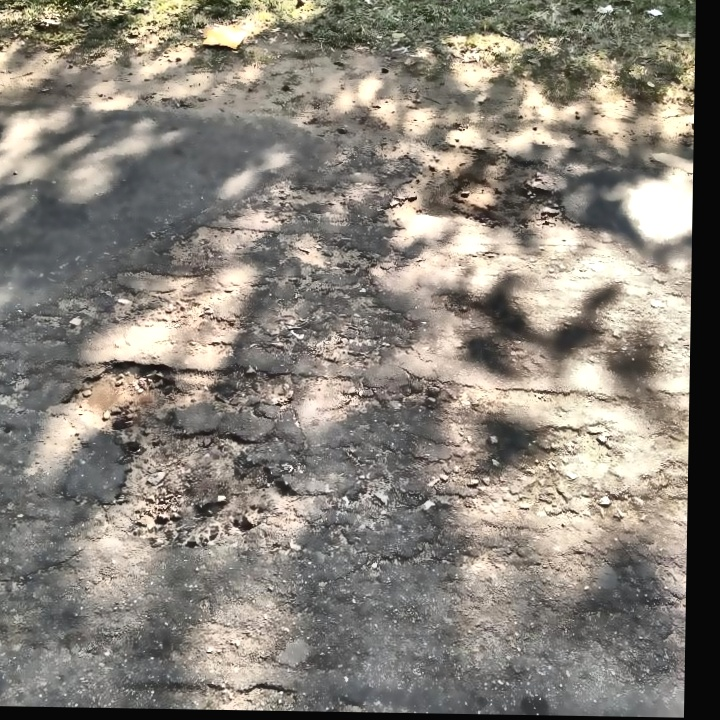pothole: (111, 425, 296, 553), (384, 140, 576, 232), (62, 355, 183, 432)
